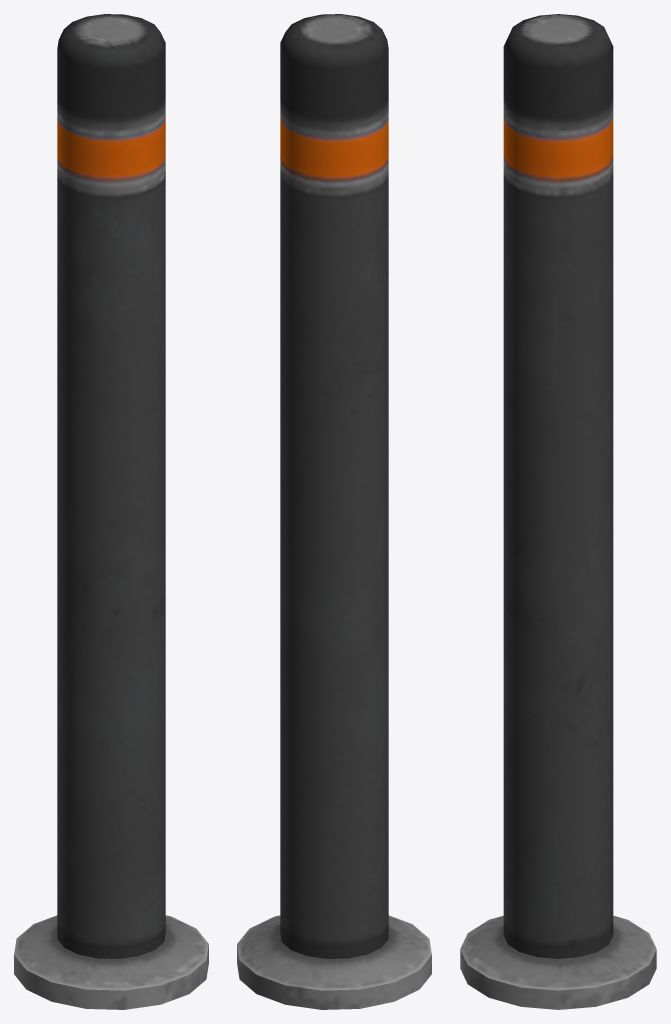
File: CP_Street_Pole_01.fbx
3 renders of one model, left to right at view 1: azimuth 30°, elevation 25°; view 2: azimuth 150°, elevation 25°; view 3: azimuth 270°, elevation 25°, orthographic.
Parts seen in each view (by area): view 1: CP_Street_Pole_01_LOD0; view 2: CP_Street_Pole_01_LOD0; view 3: CP_Street_Pole_01_LOD0.
Boxes of the visible parts, x1,y1,x2,y2 form: CP_Street_Pole_01_LOD0: (14, 14, 208, 1009); CP_Street_Pole_01_LOD0: (237, 14, 431, 1009); CP_Street_Pole_01_LOD0: (460, 14, 656, 1009).
Size of what is drawn, in the model's own units: 19.29 by 102 by 19.29.
